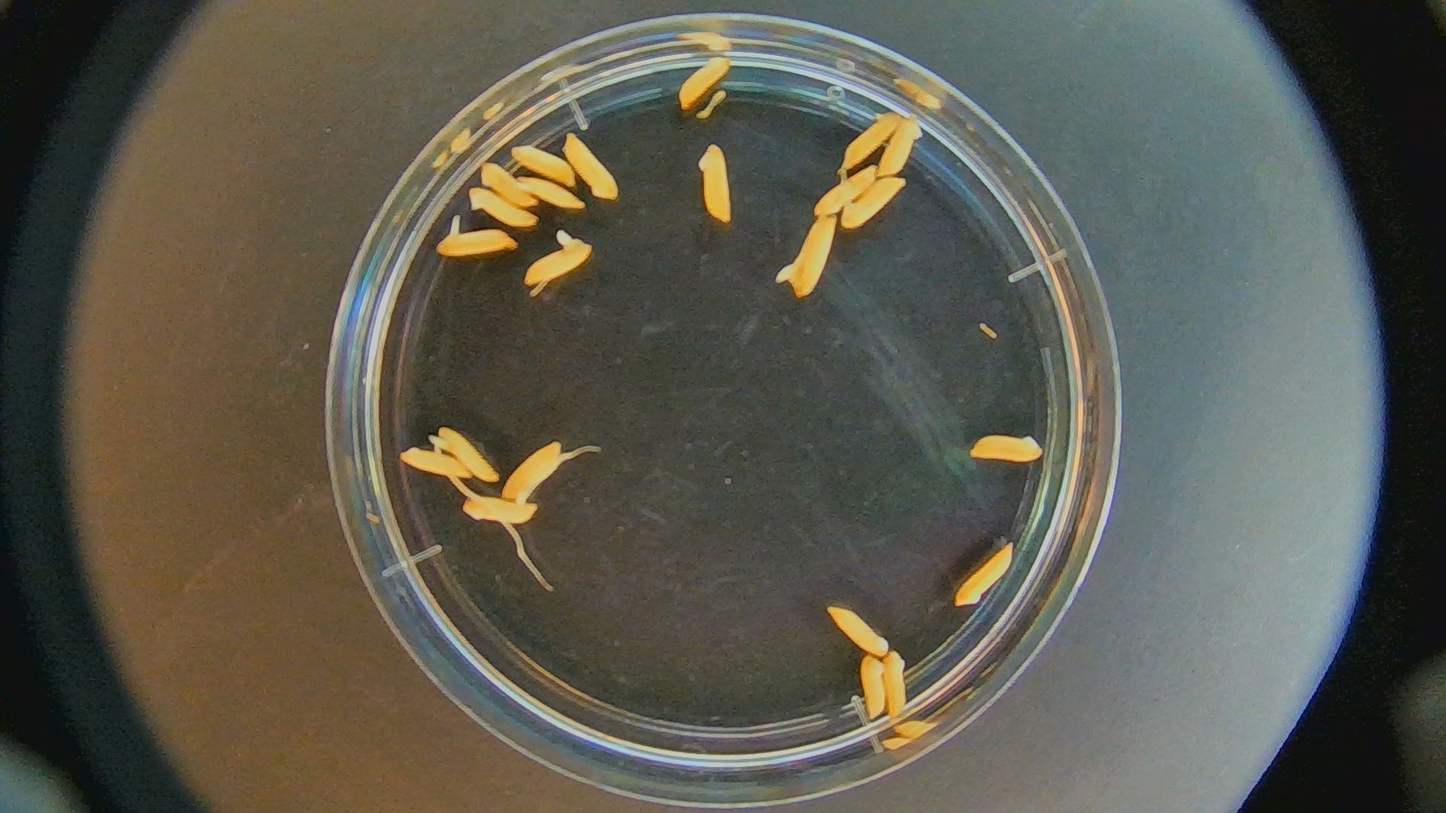no: (953, 545, 1016, 611), (566, 130, 622, 198), (503, 443, 565, 500), (842, 178, 908, 231), (842, 114, 903, 171), (816, 164, 877, 218), (827, 605, 890, 656), (466, 184, 539, 228), (877, 115, 923, 180), (698, 140, 732, 227), (512, 145, 574, 190), (679, 56, 731, 109), (481, 160, 541, 204), (463, 492, 539, 526), (514, 175, 585, 211), (967, 434, 1045, 464), (399, 446, 471, 477), (858, 653, 888, 723), (882, 650, 911, 720)
yes: (781, 215, 837, 295), (432, 426, 498, 480), (525, 235, 592, 285), (437, 224, 517, 260)
